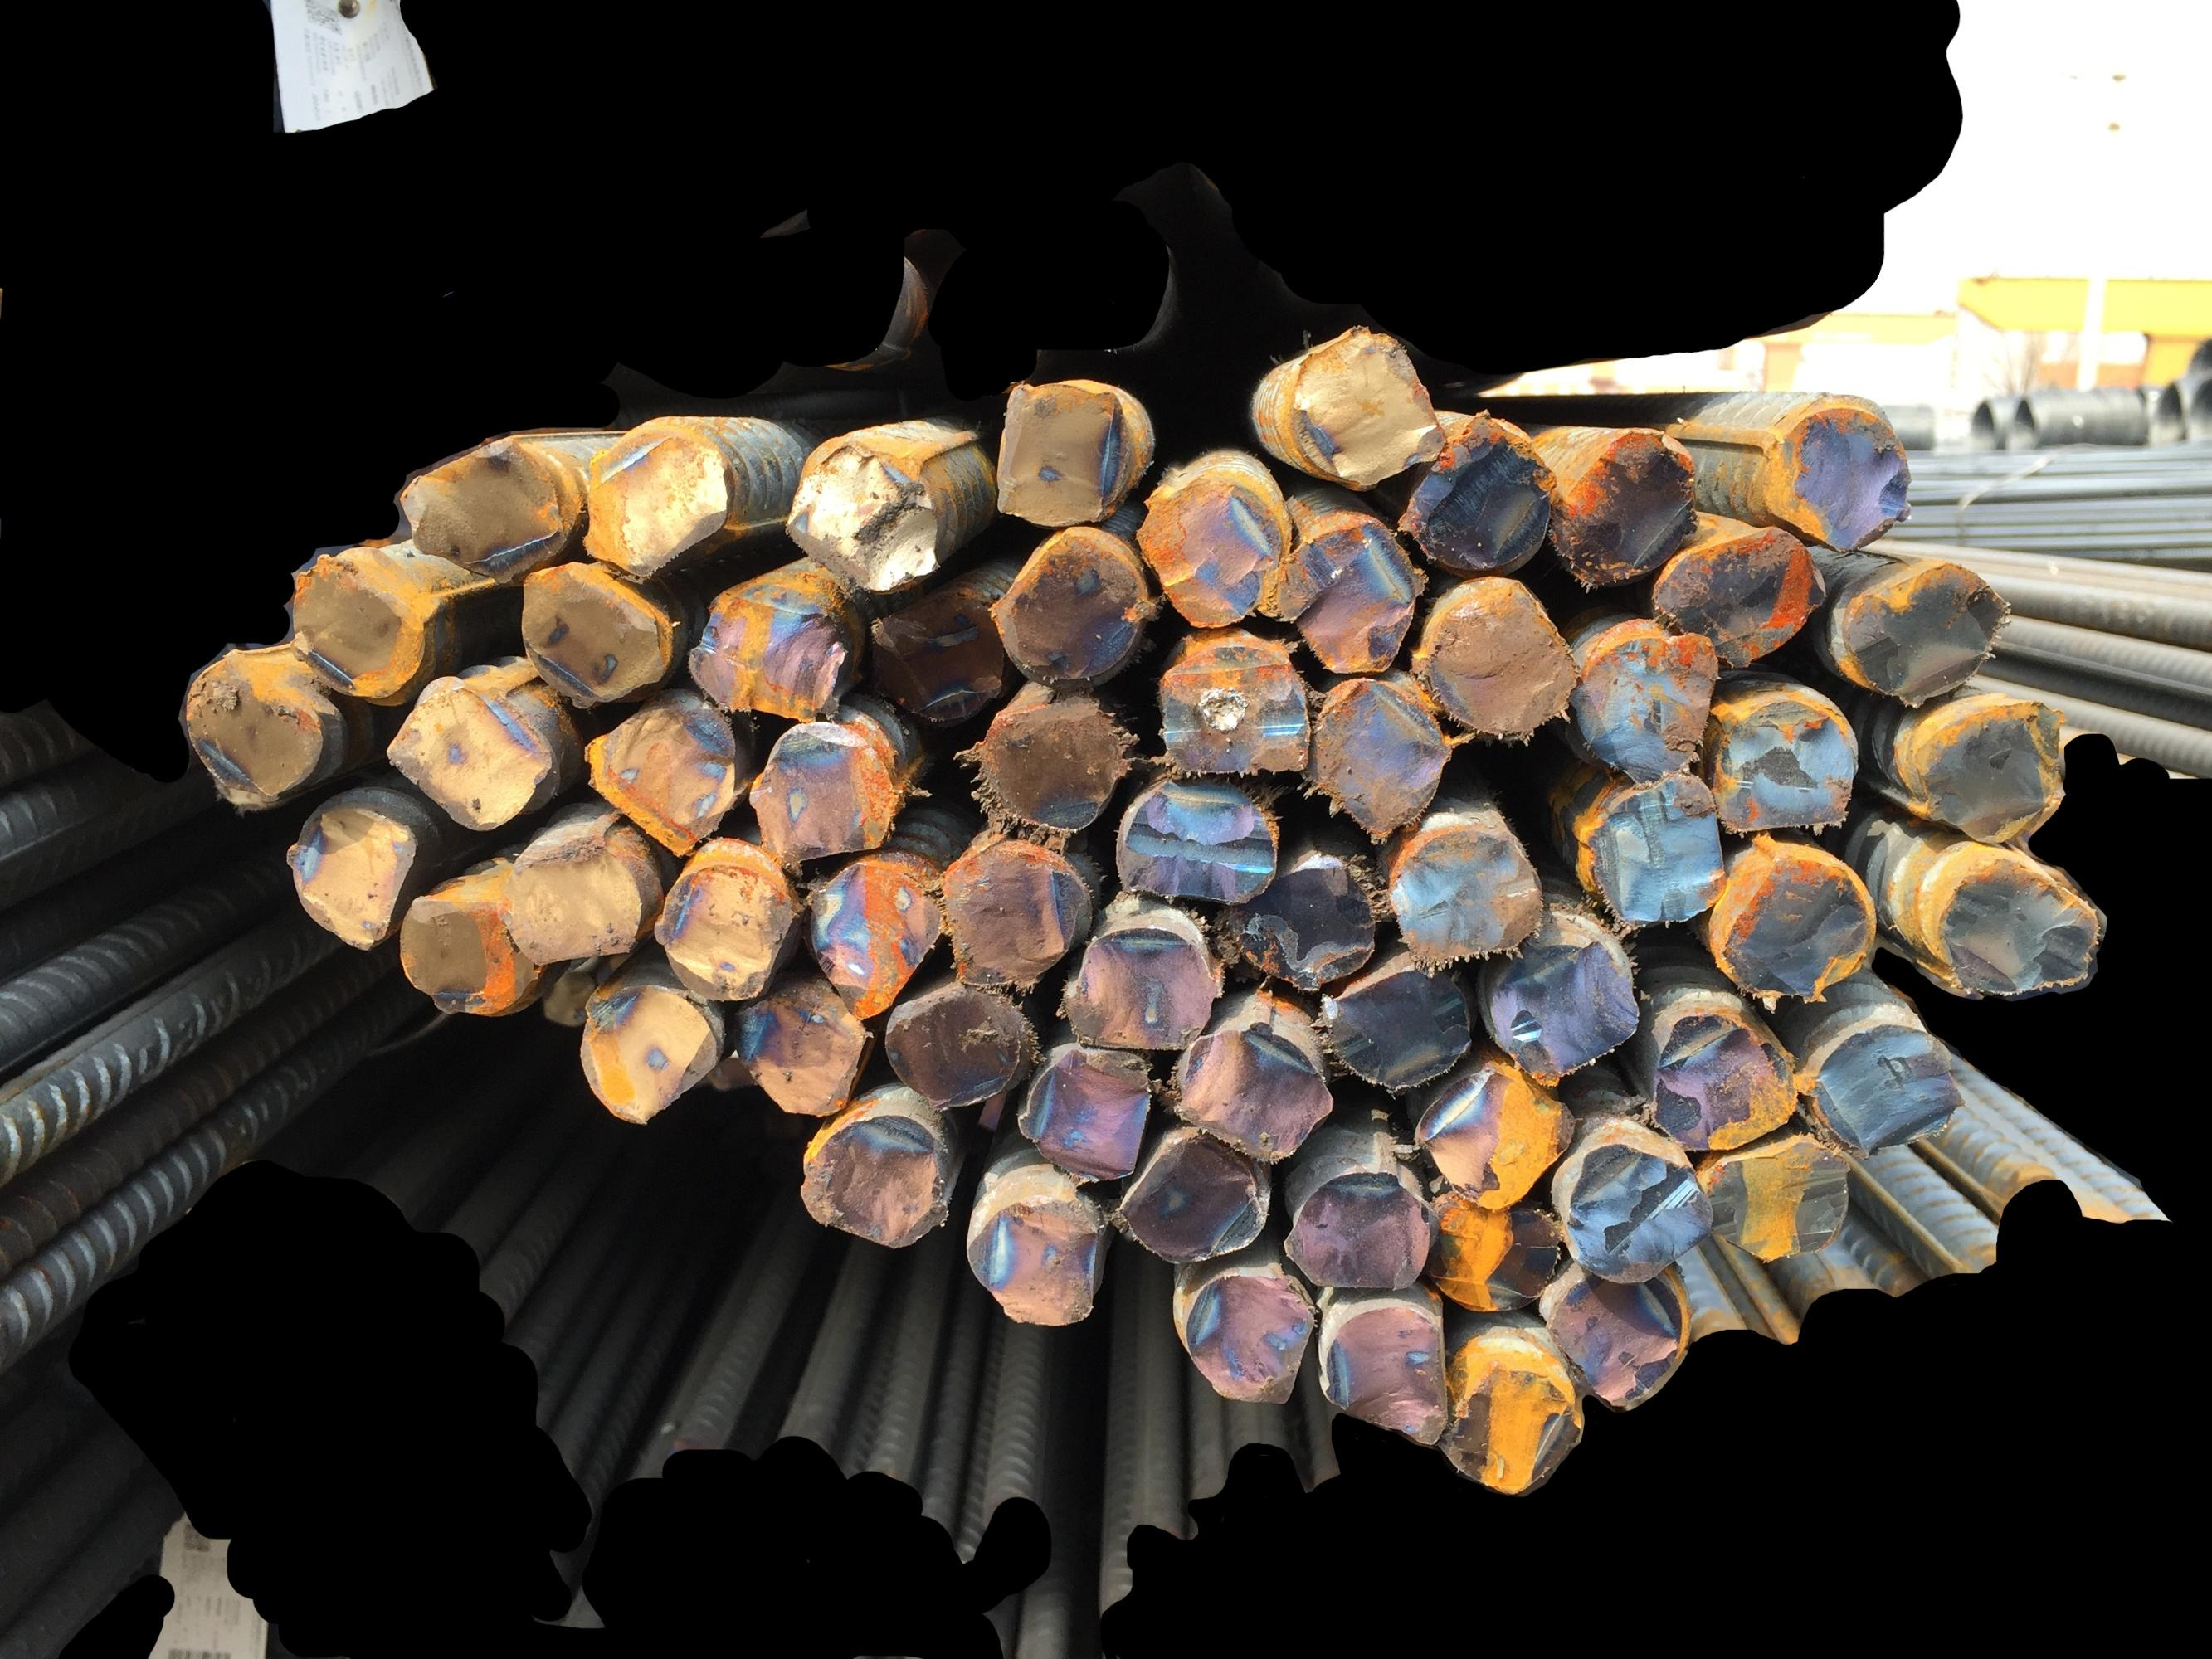bar: (1279, 321, 1452, 497), (1644, 512, 1827, 674), (378, 666, 551, 835), (783, 429, 950, 598), (1931, 847, 2104, 1007), (1706, 845, 1881, 1004), (1841, 552, 2013, 711), (1759, 392, 1919, 561), (1133, 464, 1292, 633), (1267, 512, 1429, 676), (580, 692, 744, 852), (985, 526, 1145, 690), (579, 408, 732, 579), (1410, 1060, 1581, 1213), (1480, 920, 1642, 1080), (169, 647, 328, 810), (1902, 692, 2071, 845), (1422, 573, 1578, 739), (987, 368, 1140, 535), (1396, 406, 1551, 570), (1168, 1014, 1333, 1168), (563, 964, 722, 1122), (687, 577, 856, 725), (516, 552, 675, 709), (1557, 416, 1705, 584), (1438, 1333, 1588, 1497), (741, 718, 906, 866), (805, 850, 948, 1021), (397, 436, 570, 575), (1710, 685, 1862, 843), (1055, 906, 1217, 1054), (1640, 1007, 1802, 1155), (1307, 673, 1452, 838), (648, 847, 802, 1002), (284, 545, 432, 704), (795, 1103, 955, 1249), (1114, 774, 1278, 917), (1159, 633, 1313, 784), (940, 833, 1091, 985), (1232, 847, 1388, 995), (1584, 774, 1731, 931), (1386, 821, 1544, 965), (1802, 1019, 1966, 1159), (1565, 626, 1715, 777), (1306, 1297, 1455, 1446), (1009, 1033, 1161, 1182), (1562, 1136, 1713, 1284), (1537, 1263, 1693, 1408), (281, 795, 422, 953), (1110, 1122, 1272, 1260), (1276, 1164, 1438, 1302), (973, 695, 1123, 840), (866, 582, 1009, 734), (1316, 958, 1475, 1091), (1177, 1260, 1316, 1408), (493, 835, 647, 969), (882, 981, 1039, 1110), (964, 1190, 1107, 1331), (734, 978, 873, 1121), (1700, 1134, 1853, 1263), (1424, 1185, 1569, 1317), (396, 882, 532, 1019)
